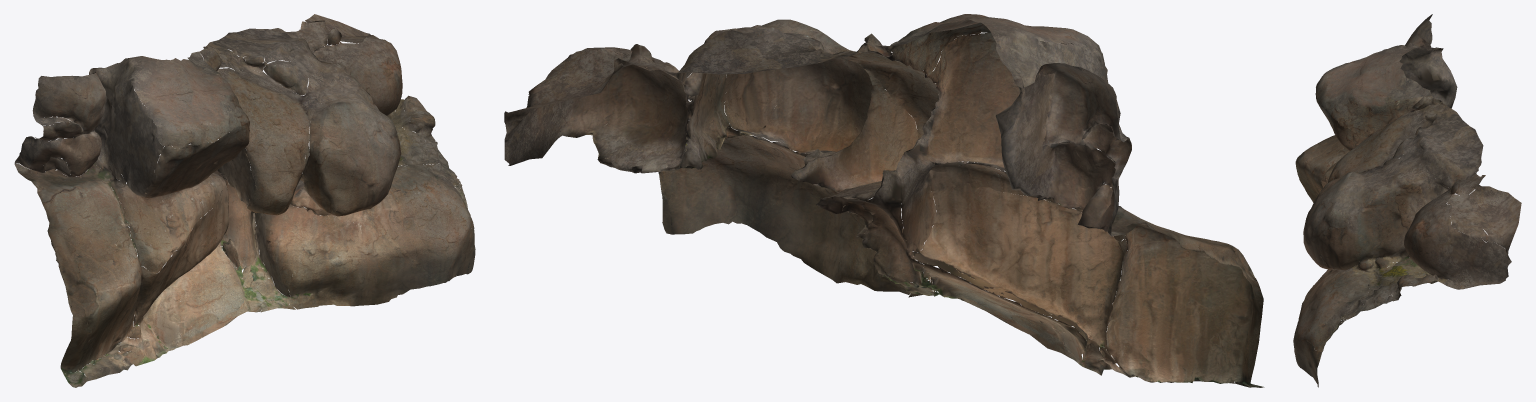
Rendered from kaya_kumesi_8m.gltf.
3 renders of one model, left to right at view 1: azimuth 30°, elevation 25°; view 2: azimuth 150°, elevation 25°; view 3: azimuth 270°, elevation 25°, orthographic. The views are drawn at different scales.
Parts seen in each view (by area): view 1: kaya_kumesi_8m; view 2: kaya_kumesi_8m; view 3: kaya_kumesi_8m.
Boxes of the visible parts, x1=… form: kaya_kumesi_8m: x1=14, y1=14, x2=475, y2=387; kaya_kumesi_8m: x1=504, y1=14, x2=1264, y2=387; kaya_kumesi_8m: x1=1293, y1=14, x2=1521, y2=387.
Size of what is drawn, in the model's own units: 8.28 by 4.96 by 4.39.
1 material, 1 textured.
